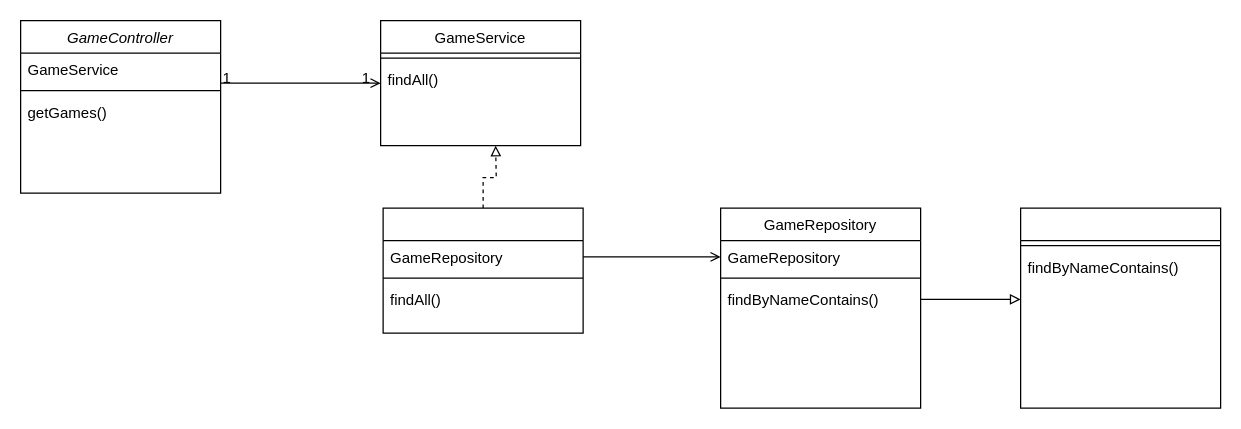
The diagram is 1241 pixels wide and 429 high, and some of its shapes have lost their labels. The shapes that lost their labels are listed below. From the top down, each one's box as (x1, y1, x2, y2) in pixels, then its label:
(382, 207, 583, 333): GameServiceImpl
(1019, 207, 1221, 408): CRUDRespository
